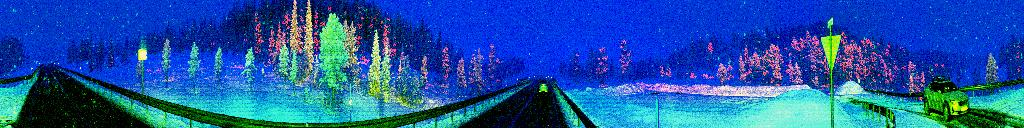pole: (348, 80, 354, 122), (654, 94, 660, 128)
